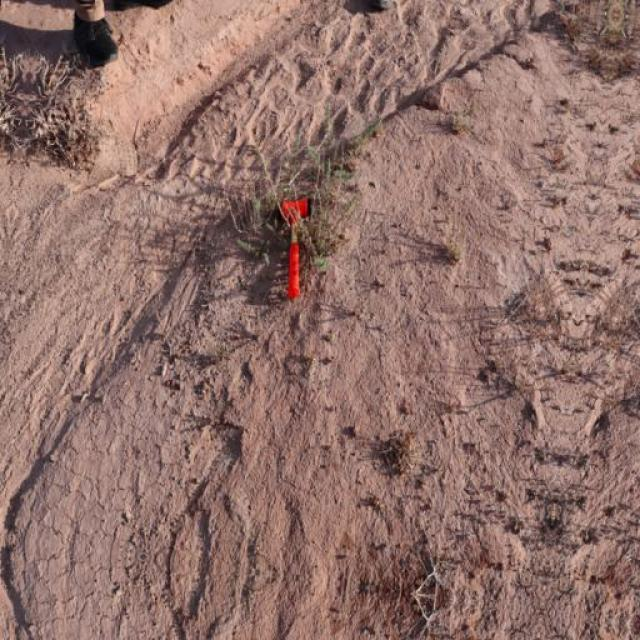mallet: (278, 195, 312, 300)
